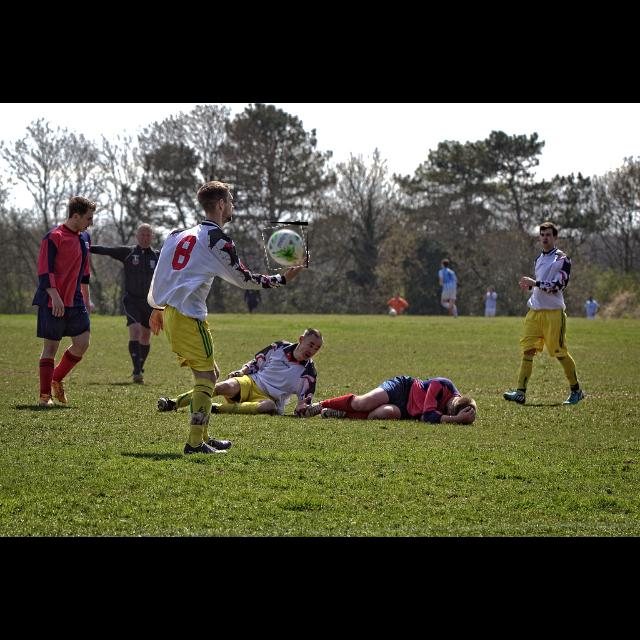Football: (264, 222, 308, 268)
